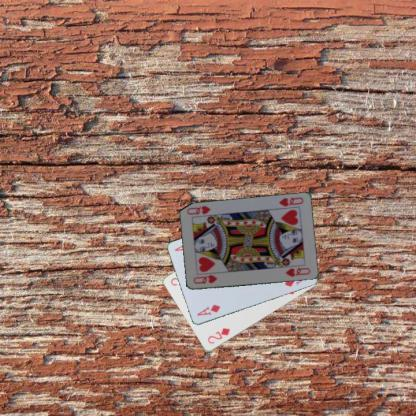2d: (205, 326, 231, 346)
Ad: (194, 302, 221, 317)
Qh: (191, 272, 218, 286), (276, 195, 305, 208)
